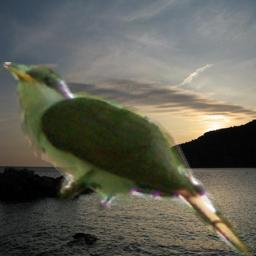Cuckoo: (0, 62, 255, 256)
